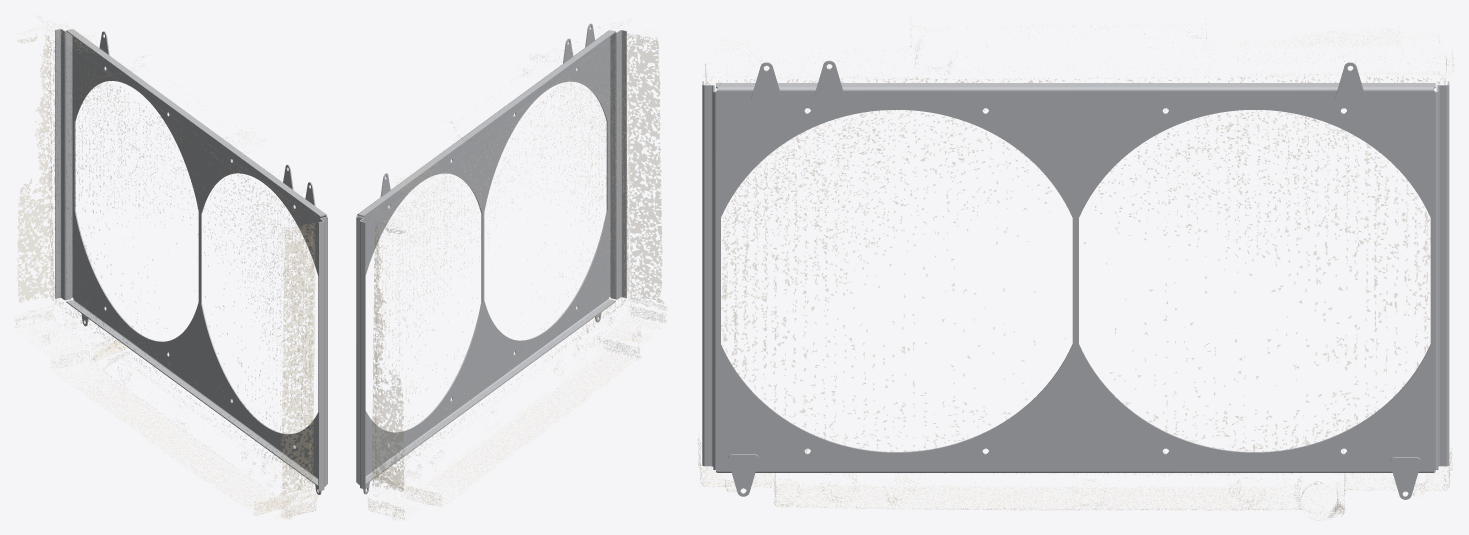
File: efan-radiator.glb
The picture shows the model from 3 angles, left to right: view 1: azimuth 30°, elevation 25°; view 2: azimuth 150°, elevation 25°; view 3: azimuth 270°, elevation 25°; orthographic projection. The views are drawn at different scales.
Visible parts, largest first — view 1: parts, scan_radiator; view 2: parts, scan_radiator; view 3: parts, scan_radiator.
Boxes of the visible parts, x1,y1,x2,y2 form: parts: [55, 29, 327, 494]; scan_radiator: [15, 21, 317, 519]; parts: [356, 23, 626, 494]; scan_radiator: [368, 21, 667, 520]; parts: [702, 60, 1449, 499]; scan_radiator: [698, 24, 1452, 520].
Size of the model in its own units: 0.1377 by 0.5386 by 0.7565.
